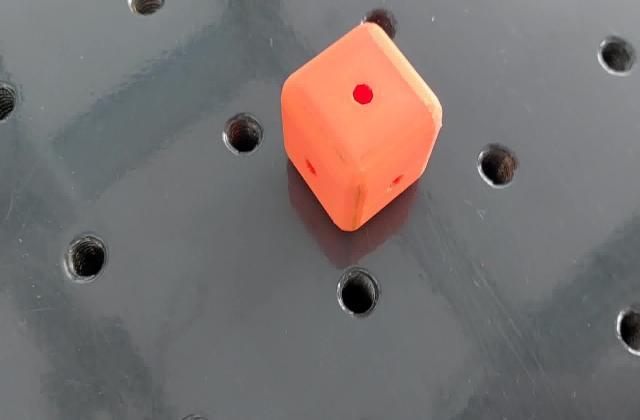cube: (277, 17, 447, 241)
